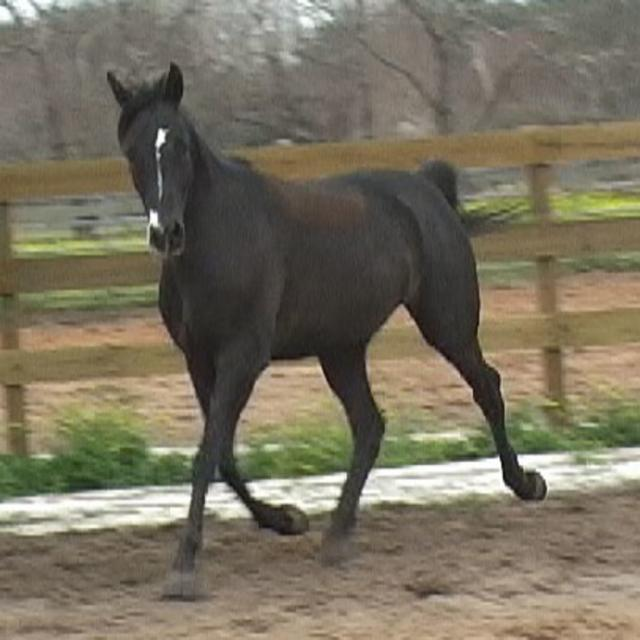Horse: (101, 60, 548, 604)
